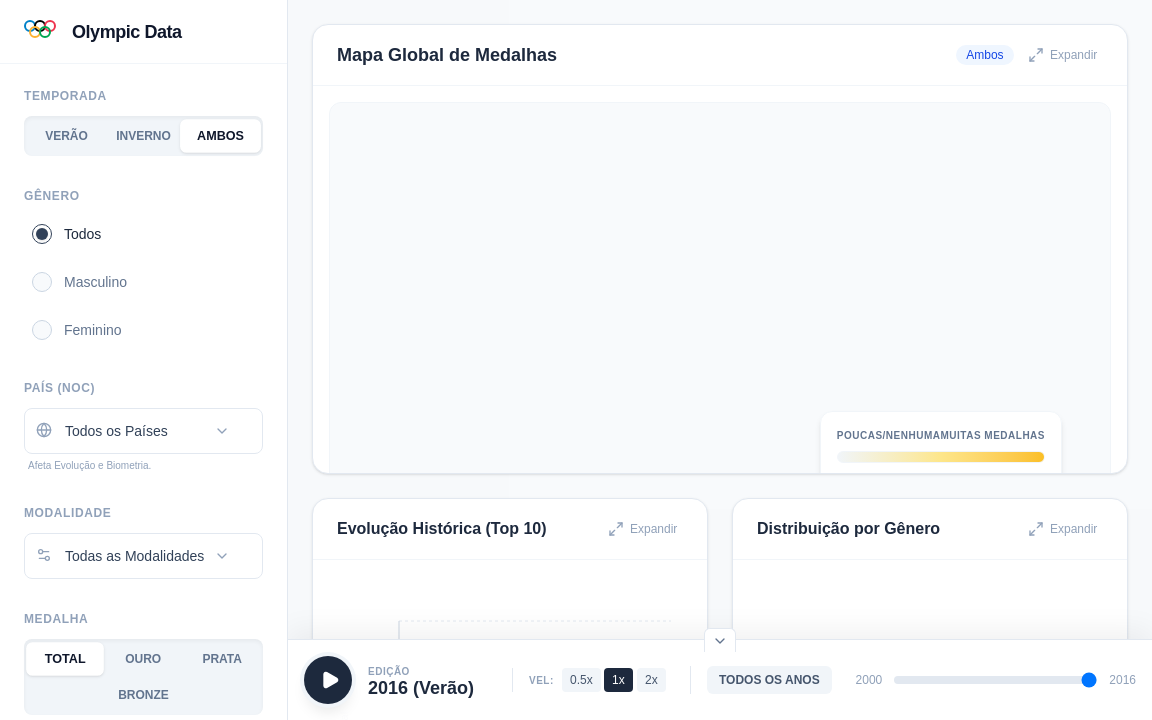
it: Dashboard timeline player › should toggle all years filter
Click the button "Todos os Anos". click: click(769, 680)
box: [707,666,832,694]
Wait 200 ms
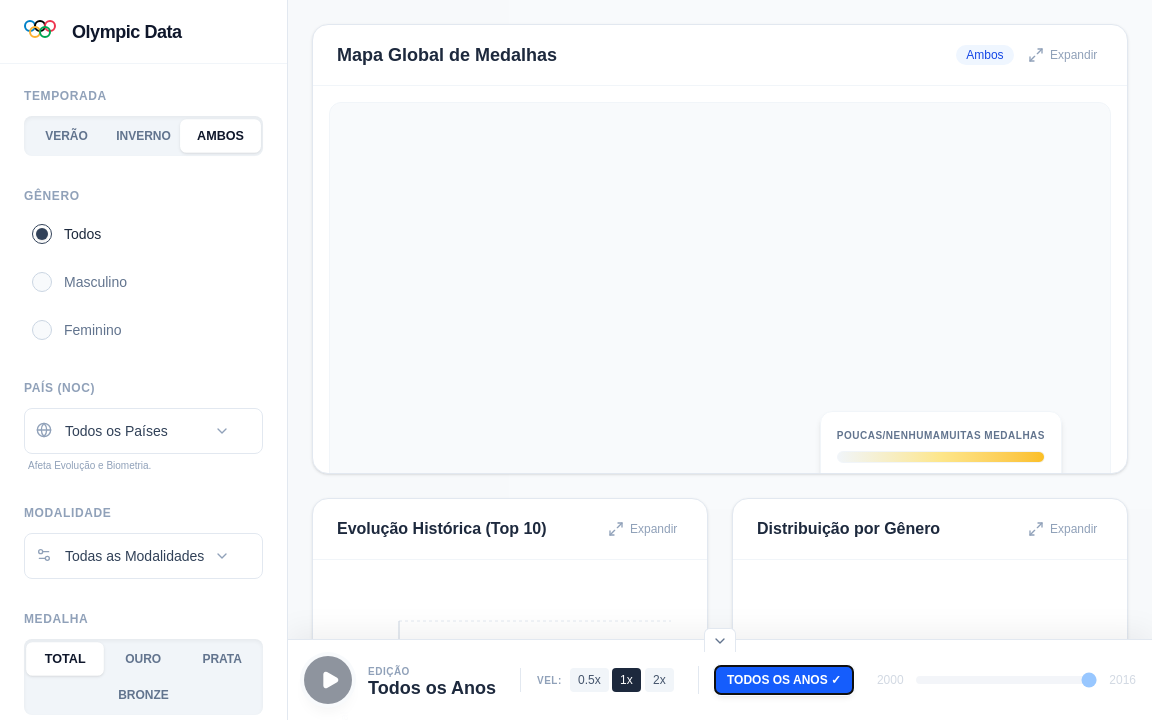
expect the button "Todos os Anos ✓" is shown: met, box [715,666,853,694]
